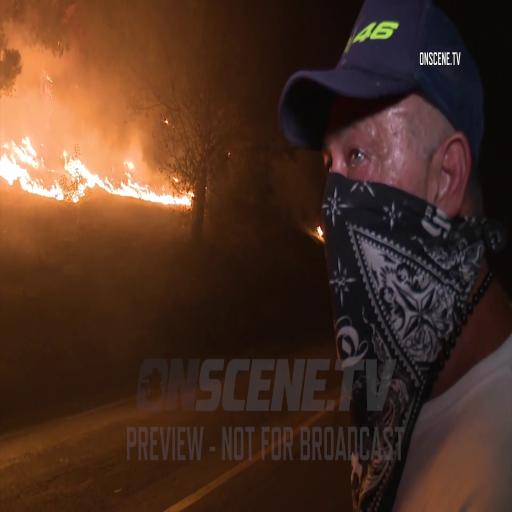fire: (0, 162, 161, 228)
